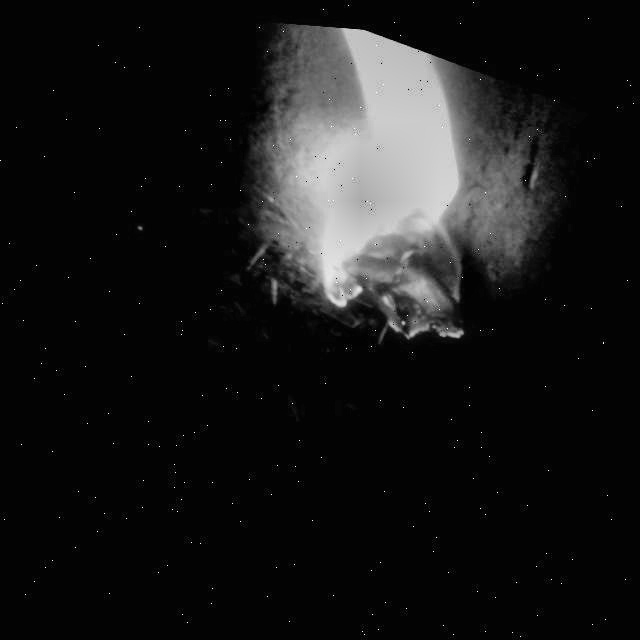Fire: (249, 16, 538, 354)
